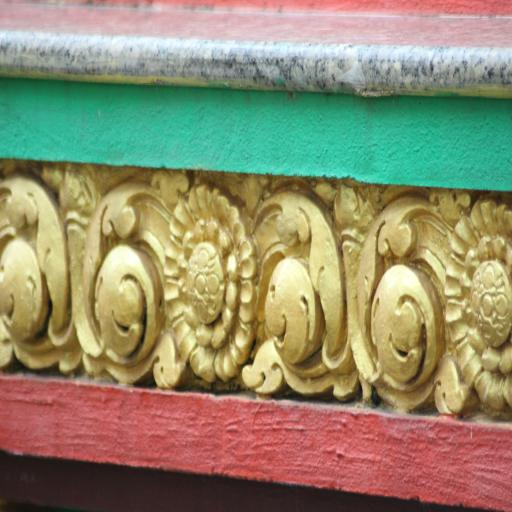hoa: (161, 174, 247, 387), (440, 194, 512, 417)
la: (248, 178, 438, 412), (0, 180, 165, 378)
